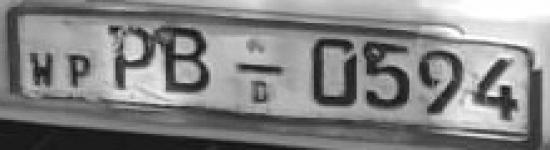-: (233, 57, 289, 83)
0: (303, 33, 360, 110)
4: (469, 51, 523, 127)
5: (358, 37, 416, 114)
9: (416, 48, 468, 122)
B: (161, 23, 218, 100)
P: (103, 20, 159, 94), (64, 51, 95, 92)
W: (24, 48, 60, 91)
